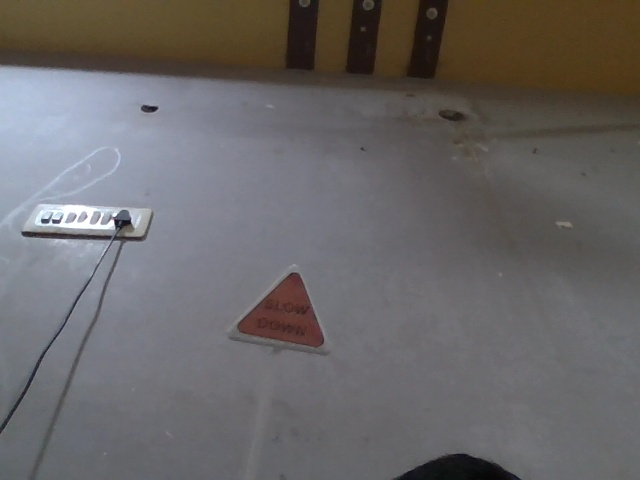slowdown: (220, 263, 332, 357)
